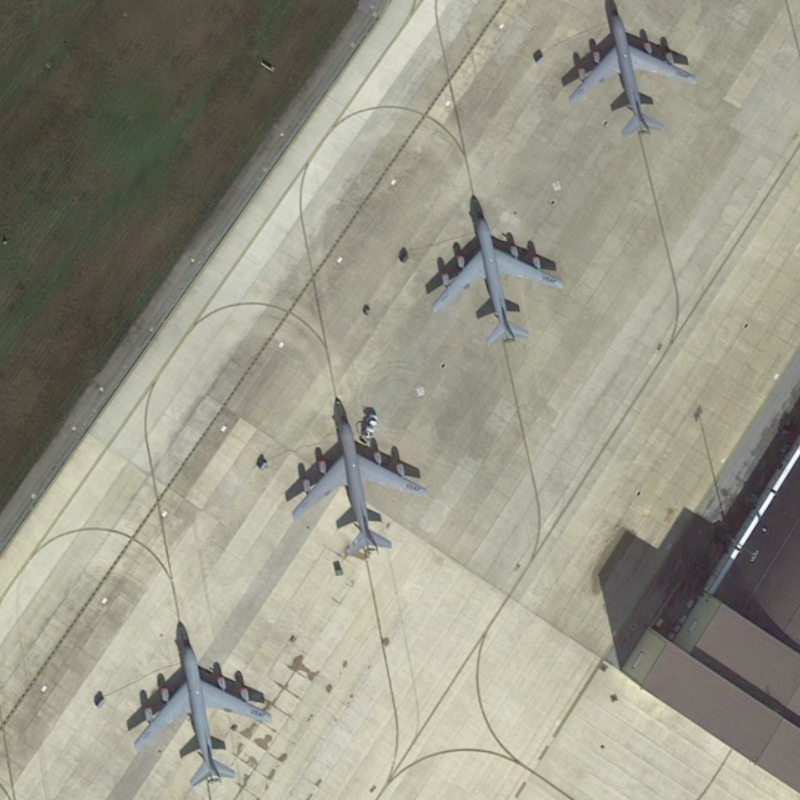A14: (123, 630, 273, 789), (279, 408, 433, 556), (425, 204, 567, 351), (563, 5, 703, 139)
